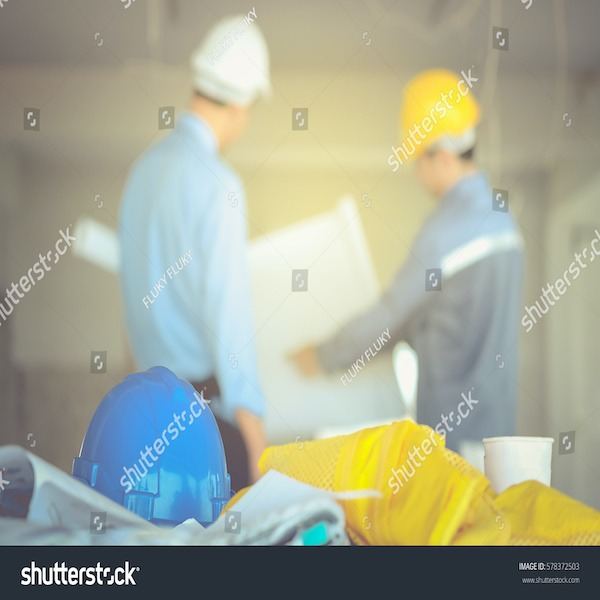helmet: (85, 364, 230, 527), (189, 20, 278, 96), (402, 74, 477, 142)
